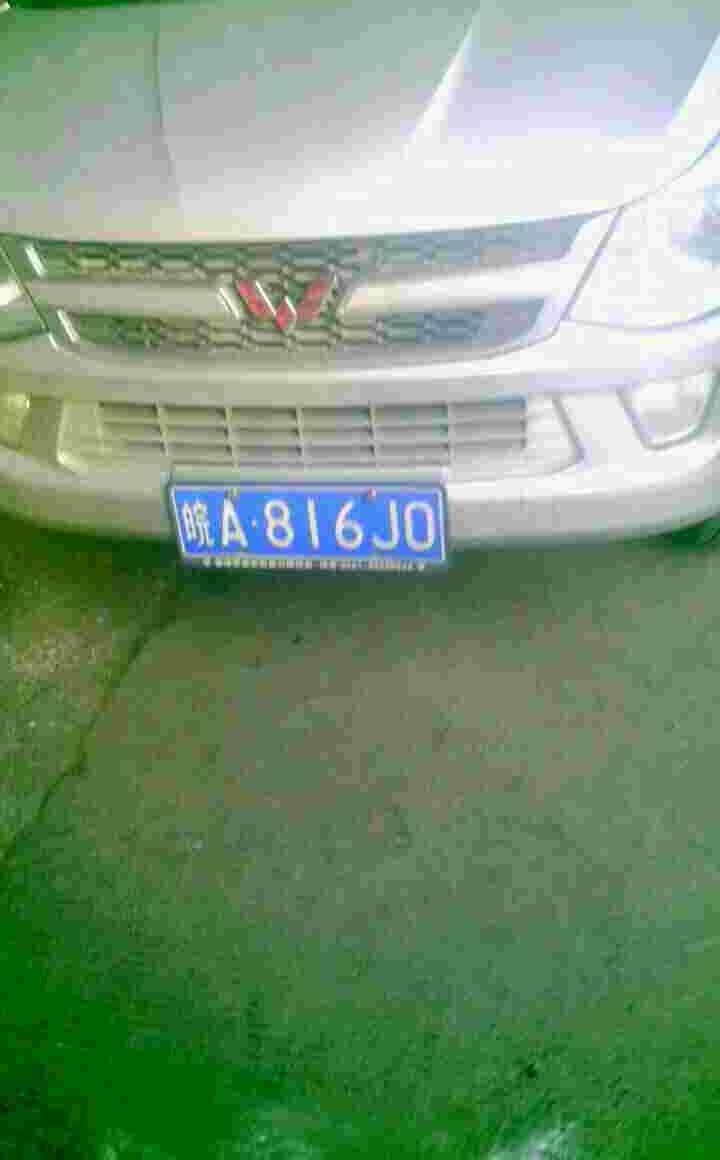plate: (170, 482, 452, 566)
